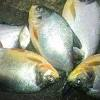Ikan Bawal: (25, 4, 83, 80), (1, 44, 63, 96)
